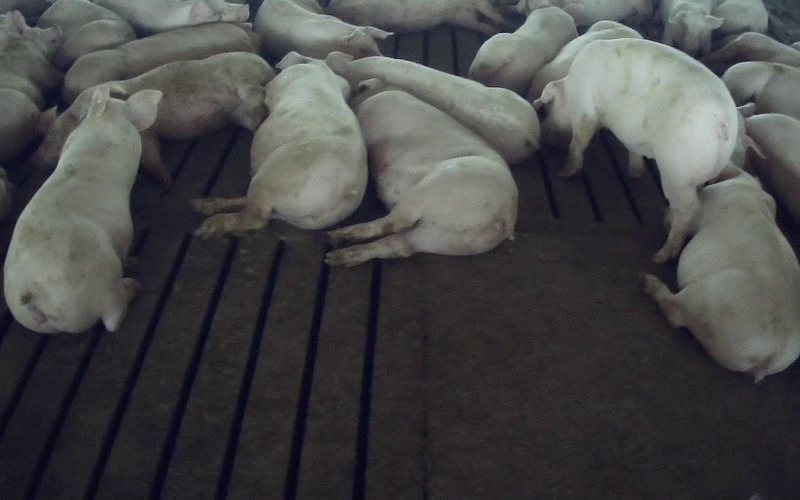pig: (4, 88, 161, 332), (326, 79, 517, 266), (641, 173, 799, 380), (34, 52, 274, 187), (192, 52, 366, 237), (344, 57, 539, 164), (63, 22, 260, 103), (469, 0, 582, 93), (527, 20, 642, 100), (254, 0, 389, 59), (37, 0, 135, 68), (326, 0, 504, 33), (745, 114, 799, 222), (94, 0, 248, 34), (722, 61, 799, 119), (702, 32, 799, 74), (660, 0, 722, 55)
